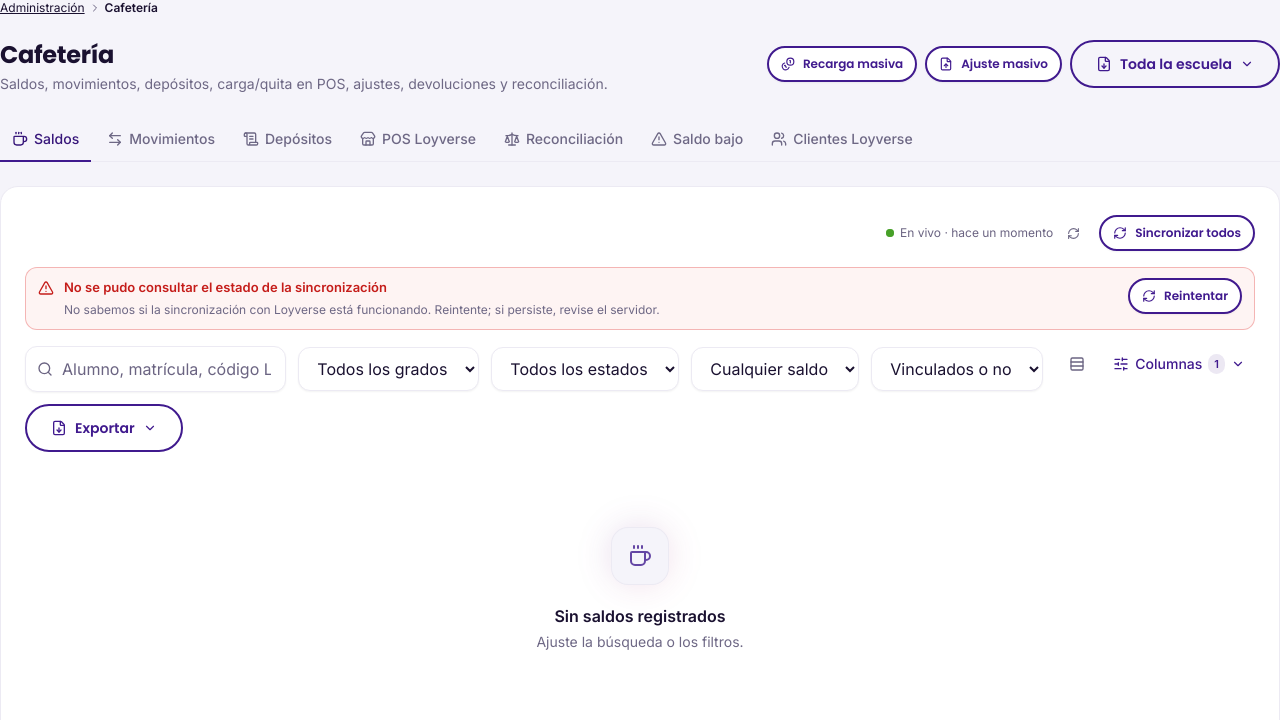
AdminCafeteria POS Loyverse queues › lists load and unload queues on the POS tab
Step 1. Click the tab "POS Loyverse" → (418, 140), box [348,118,488,162]
(page scrolled)
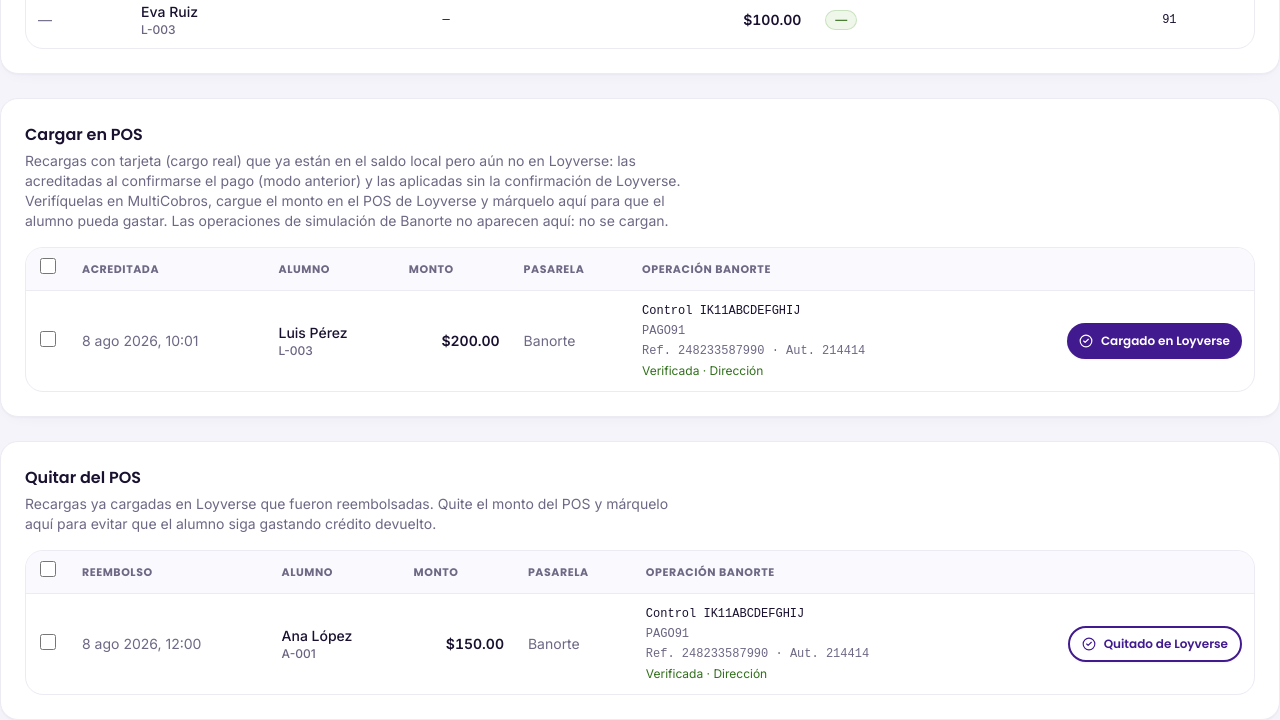
Expected: the heading "Cargar en POS" is shown, [25,123,143,146]
Expected: the heading "Quitar del POS" is shown, [25,466,141,489]
Expected: the link "Luis Pérez" is shown, [278,324,348,341]
